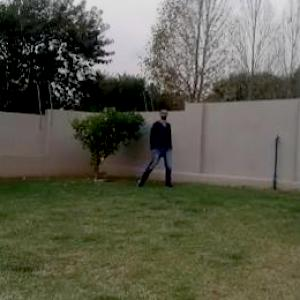follow: (151, 107, 171, 184)
